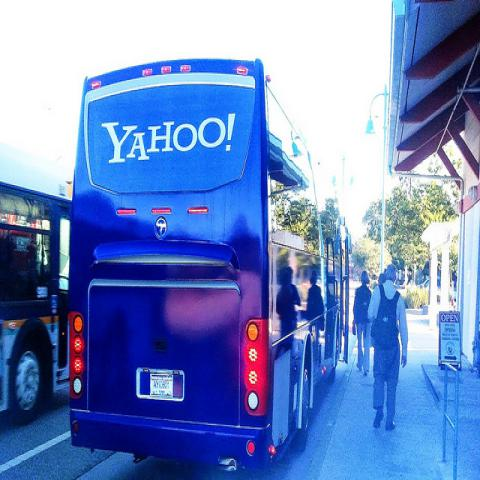bus: (68, 57, 354, 474), (0, 184, 72, 421)
